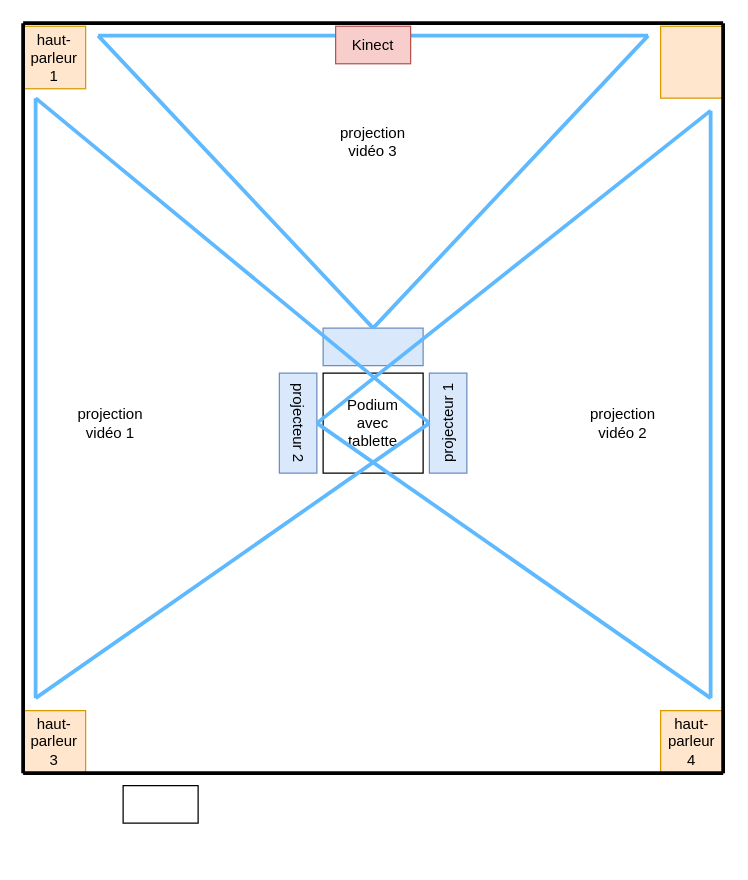
This 748x880 diagram has some shape labels left out. Each missing label, with the centre of its shape:
"Entrée" goes at (160,803).
"haut-parleur 2" goes at (691,61).
"projecteur 3" goes at (372,346).
